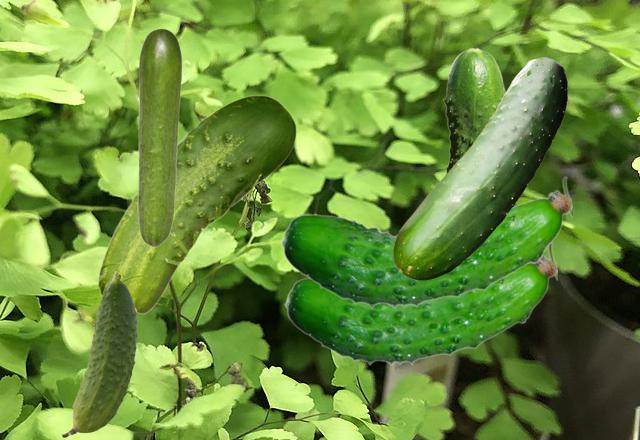cucumber: (97, 95, 295, 313), (279, 176, 571, 308), (393, 57, 566, 279), (283, 242, 556, 365), (62, 271, 137, 436), (137, 28, 181, 246), (442, 47, 505, 173)
